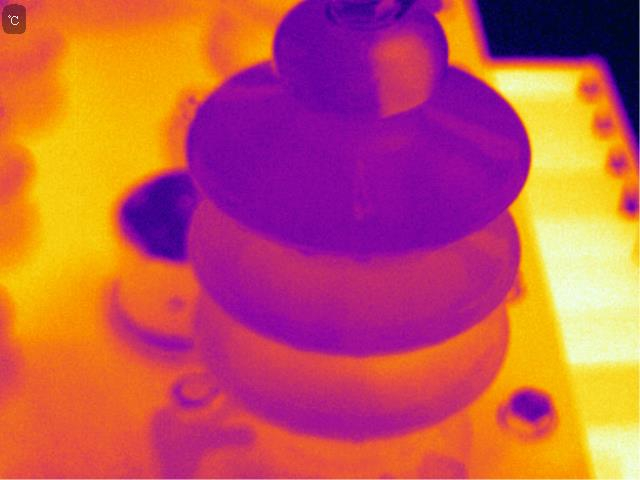Oil: (425, 97, 528, 183), (359, 27, 443, 122), (346, 155, 389, 241)
